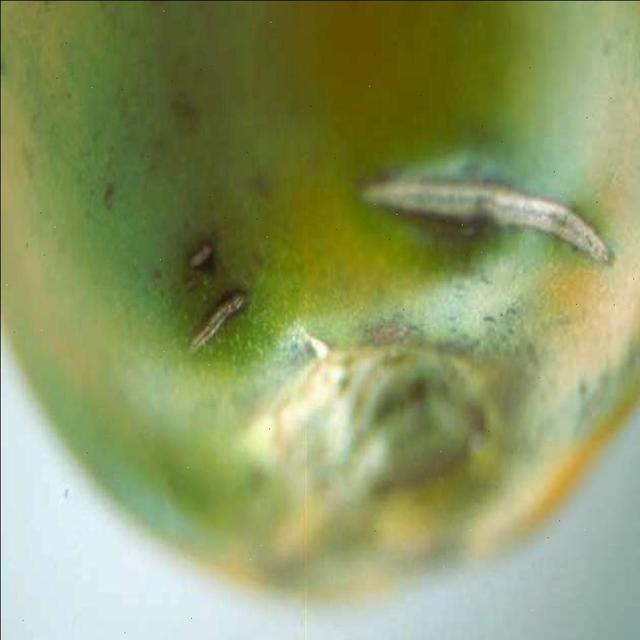Cracking Fruit: (37, 28, 320, 216)
